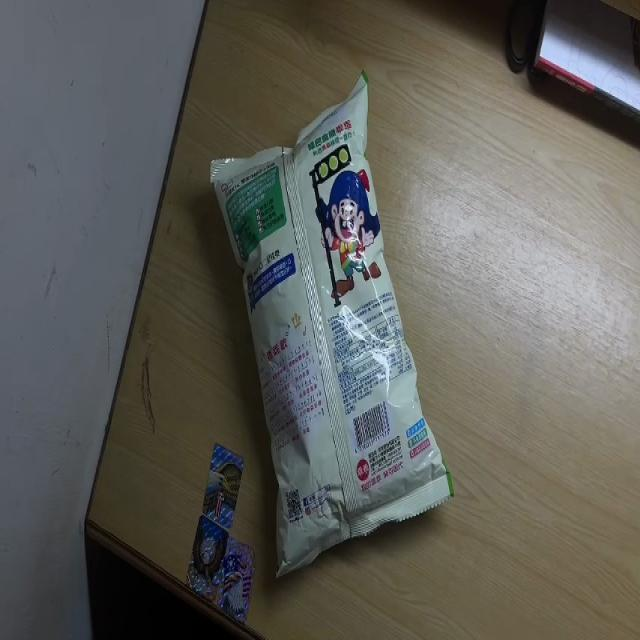Good-Luck: (214, 74, 458, 583)
